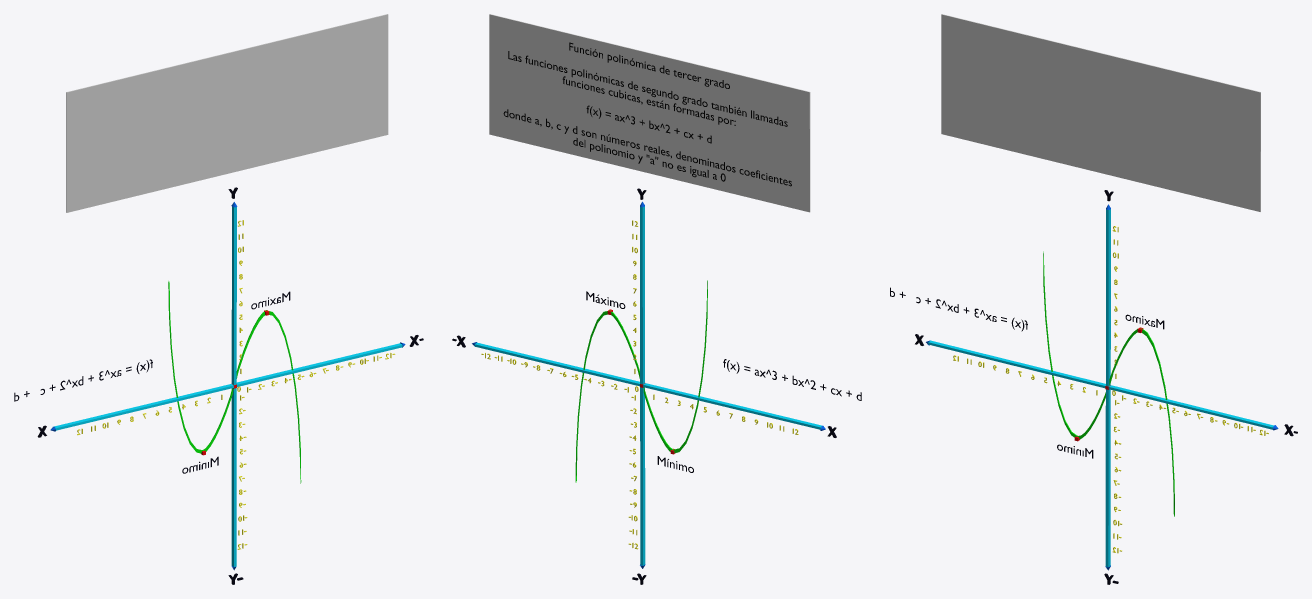
File: f-polinomica-tercer-grado.fbx
The picture shows the model from 3 angles, left to right: view 1: azimuth 30°, elevation 25°; view 2: azimuth 150°, elevation 25°; view 3: azimuth 330°, elevation 25°; orthographic projection.
Parts seen in each view (by area): view 1: Cubo.003, Cubo.001, Cubo, Surface.003, Surface.001; view 2: Cubo.003, Text.087, Cubo.001, Cubo, Surface.001, Surface.003; view 3: Cubo.003, Cubo.001, Cubo, Surface.001, Surface.003.
Boxes of the visible parts, x1,y1,x2,y2 form: Cubo.003: (66,14,388,212); Cubo.001: (231,207,236,566); Cubo: (54,343,402,430); Surface.003: (168,281,239,453); Surface.001: (230,310,301,483); Cubo.003: (489,14,810,212); Text.087: (503,42,791,186); Cubo.001: (640,206,645,565); Cubo: (474,342,823,429); Surface.001: (575,310,645,482); Surface.003: (638,280,707,453); Cubo.003: (941,14,1260,211); Cubo.001: (1105,209,1110,567); Cubo: (927,340,1273,429); Surface.001: (1104,328,1174,516); Surface.003: (1043,251,1113,439).
Bounding box in the file's own units: 638 × 794 × 8.65.
